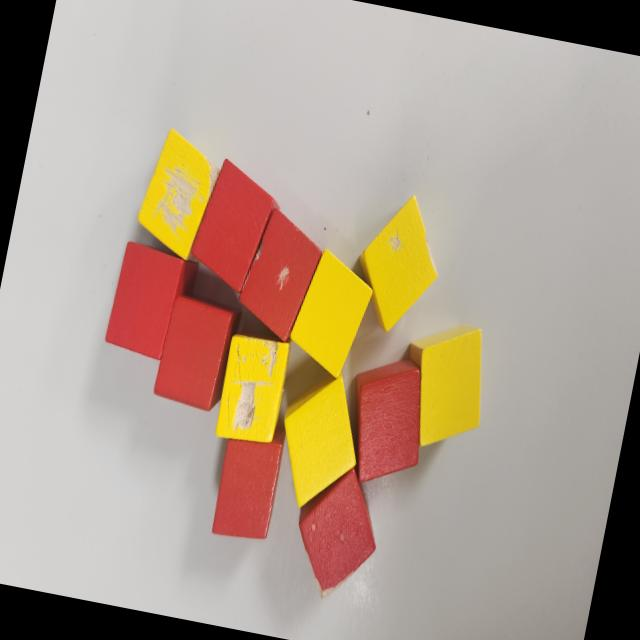broken: (347, 186, 452, 340), (285, 458, 392, 605), (231, 204, 328, 348), (132, 125, 228, 266), (212, 330, 294, 450)
red: (334, 348, 438, 496), (183, 156, 284, 302), (101, 238, 197, 366), (150, 289, 244, 416), (208, 422, 290, 546)
yellow: (266, 363, 372, 518), (392, 315, 498, 459), (285, 248, 377, 383)
